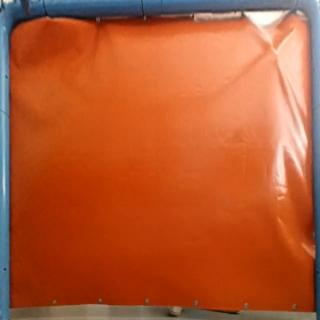Hit-hRxx: (271, 48, 289, 63)
